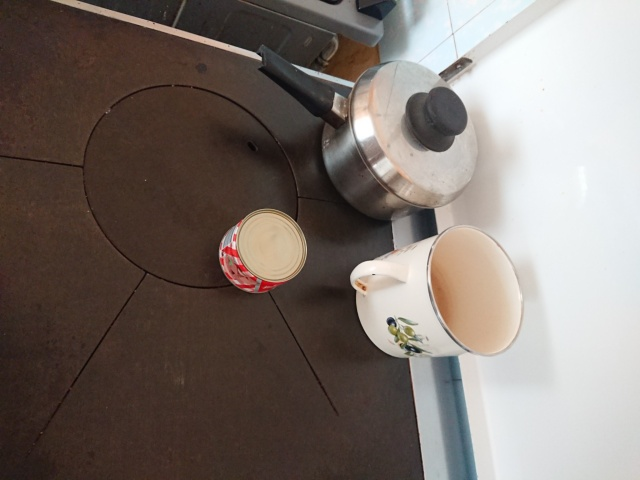Podravka Luncheon Meat 150g: (216, 205, 309, 297)
